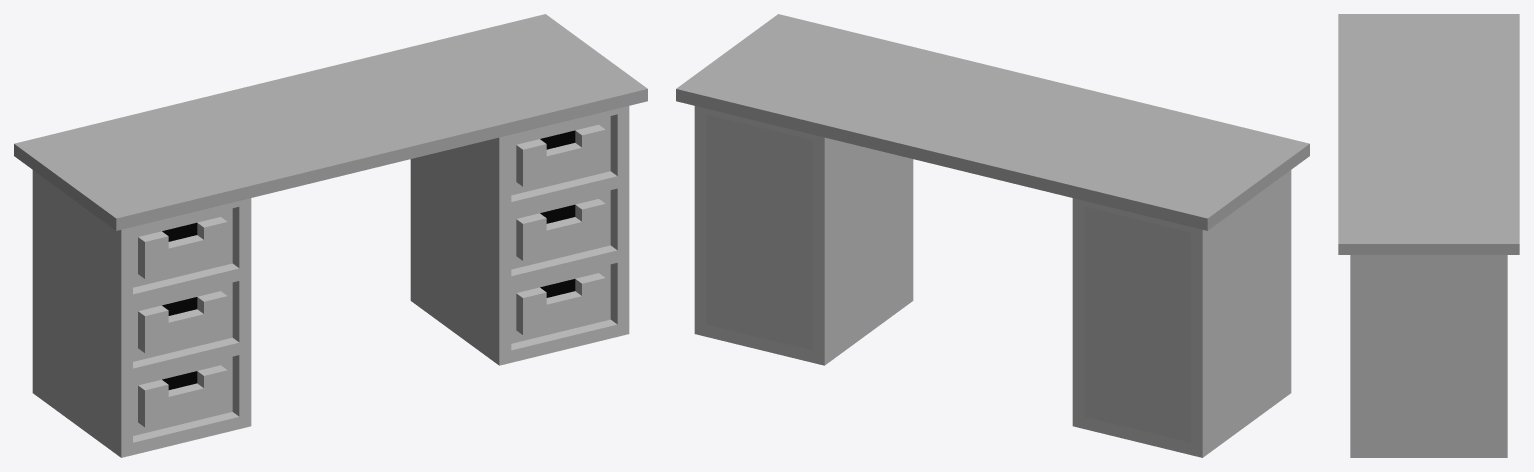
File: 207_desk1.glb
The picture shows the model from 3 angles, left to right: view 1: azimuth 30°, elevation 25°; view 2: azimuth 150°, elevation 25°; view 3: azimuth 270°, elevation 25°; orthographic projection. The views are drawn at different scales.
Parts seen in each view (by area): view 1: Object_2; view 2: Object_2; view 3: Object_2.
Boxes of the visible parts, box(x1,y1,x2,y2) form: Object_2: box(14, 14, 647, 457); Object_2: box(676, 14, 1309, 457); Object_2: box(1338, 14, 1519, 457).
Bounding box in the file's own units: 4.5 × 2 × 1.5.
Materials: 1 (1 with a texture image).
